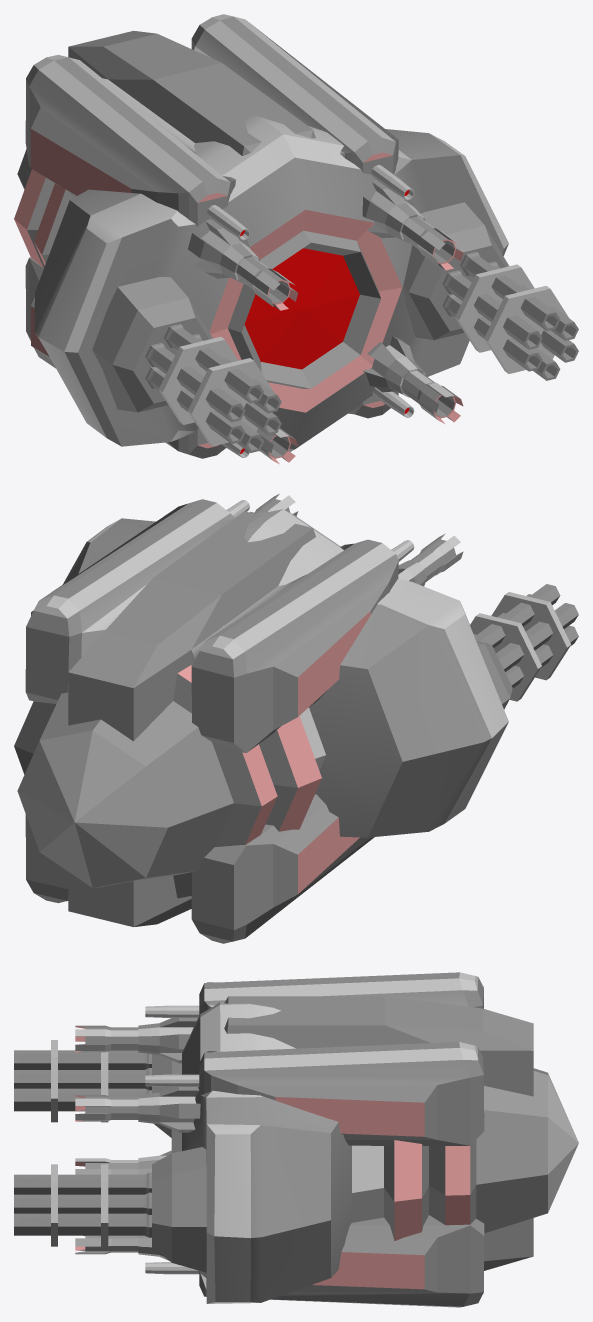
The model's file is BossDroneHead.fbx.
3 renders of one model, top to bottom at view 1: azimuth 30°, elevation 25°; view 2: azimuth 150°, elevation 25°; view 3: azimuth 270°, elevation 25°, orthographic. The views are drawn at different scales.
Visible parts, largest first — view 1: BossDroneHead; view 2: BossDroneHead; view 3: BossDroneHead.
Part boxes in pixels (x1,y1,x2,y2): BossDroneHead: (14, 14, 578, 464); BossDroneHead: (14, 493, 578, 943); BossDroneHead: (14, 972, 578, 1307).
Bounding box in the file's own units: 7.48 × 5.09 × 9.38.
